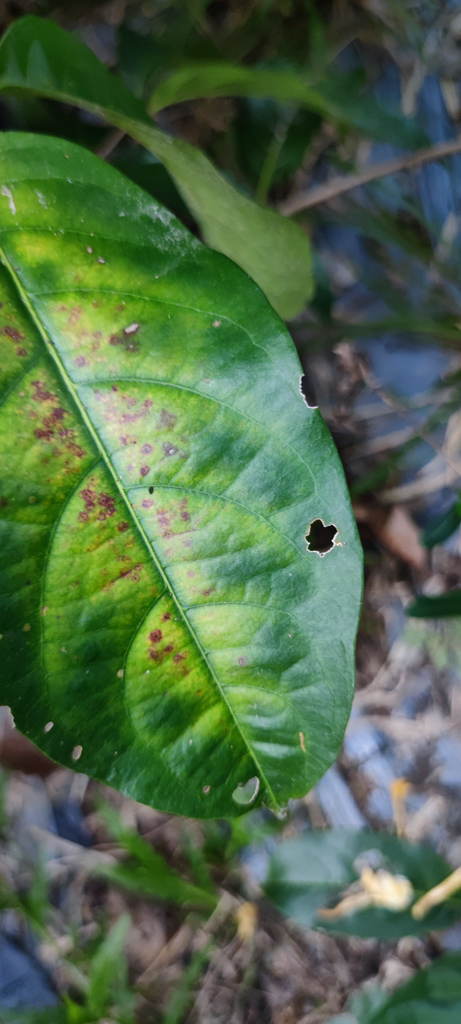Canker: (4, 263, 318, 770)
